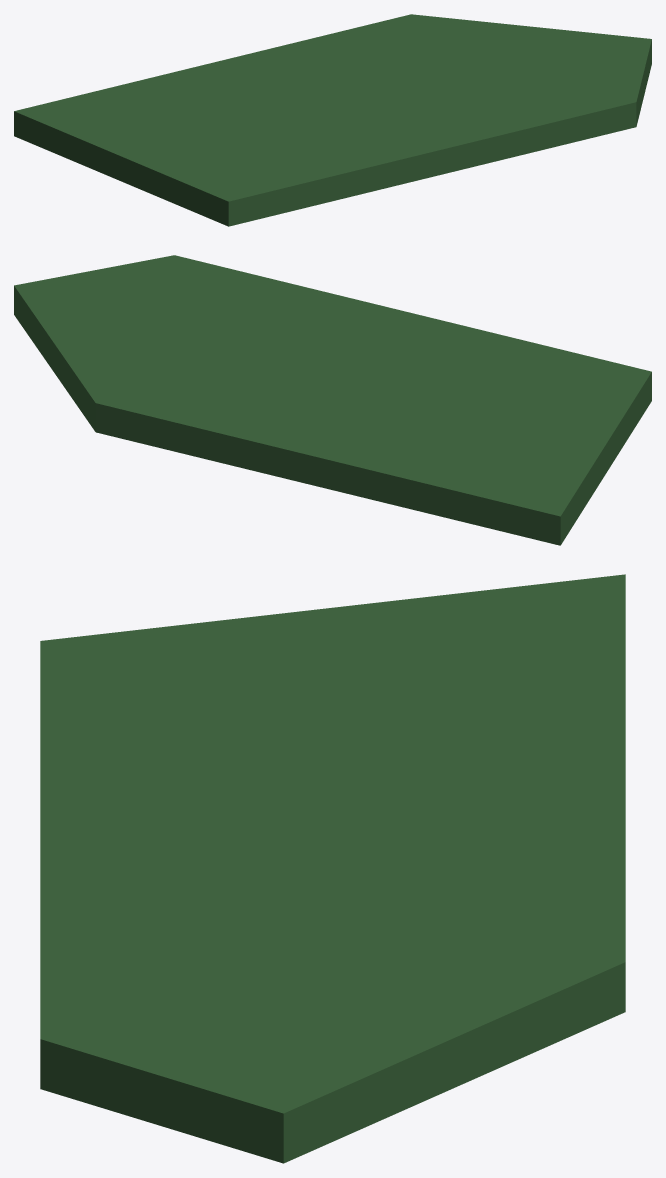
Rendered from x_proval_00_133_1_rmstrd.fbx.
The picture shows the model from 3 angles, top to bottom: view 1: azimuth 30°, elevation 25°; view 2: azimuth 150°, elevation 25°; view 3: azimuth 270°, elevation 25°; orthographic projection. The views are drawn at different scales.
Visible parts, largest first — view 1: x_proval_00_133_1_rmstrd1; view 2: x_proval_00_133_1_rmstrd1; view 3: x_proval_00_133_1_rmstrd1.
Part boxes in pixels (<box>): x_proval_00_133_1_rmstrd1: <box>14,14,651,226</box>; x_proval_00_133_1_rmstrd1: <box>14,255,651,545</box>; x_proval_00_133_1_rmstrd1: <box>40,574,625,1163</box>.
Size of the model in its own units: 4.62 by 0.2 by 2.12.
